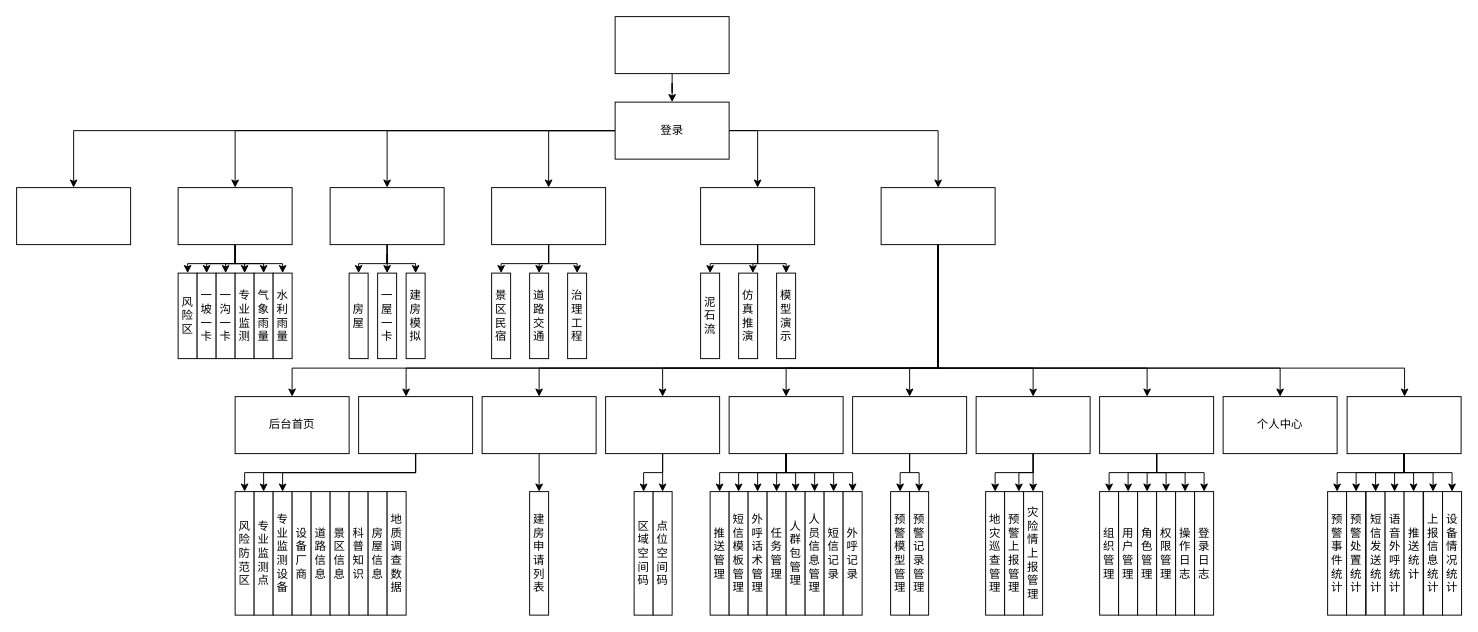
The diagram is 1478 pixels wide and 632 high, and some of its shapes have lost their labels. The shapes that lost their labels are listed below. From the top down, each one's centre as x and y in pixels, then its label:
At point 671,45: "地灾智治管理系统".
At point 73,216: "数字驾驶舱".
At point 234,216: "码上治灾".
At point 386,216: "切坡建房".
At point 548,216: "多跨协同".
At point 757,216: "数字孪生".
At point 937,216: "后台管理".
At point 415,425: "基础数据".
At point 538,425: "建房评估".
At point 662,425: "空间码管理".
At point 785,425: "触达管理".
At point 909,425: "预警预报".
At point 1032,425: "上报管理".
At point 1156,425: "系统管理".
At point 1403,425: "统计报表".
